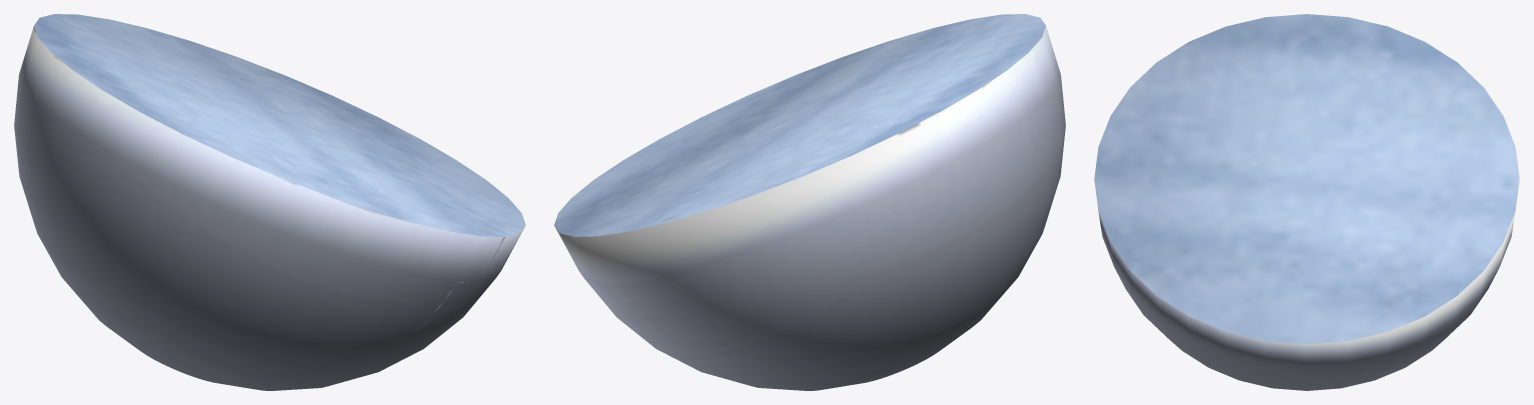
The model's file is LamiaSemiSphere.glb.
3 renders of one model, left to right at view 1: azimuth 30°, elevation 25°; view 2: azimuth 150°, elevation 25°; view 3: azimuth 270°, elevation 25°, orthographic. The views are drawn at different scales.
Parts seen in each view (by area): view 1: 球体; view 2: 球体; view 3: 球体.
Boxes of the visible parts, box(x1,y1,x2,y2) form: 球体: box(14, 14, 525, 390); 球体: box(554, 14, 1065, 390); 球体: box(1094, 14, 1519, 390).
Size of what is drawn, in the model's own units: 1.09 by 0.8232 by 1.15.
2 materials, 2 textured.
